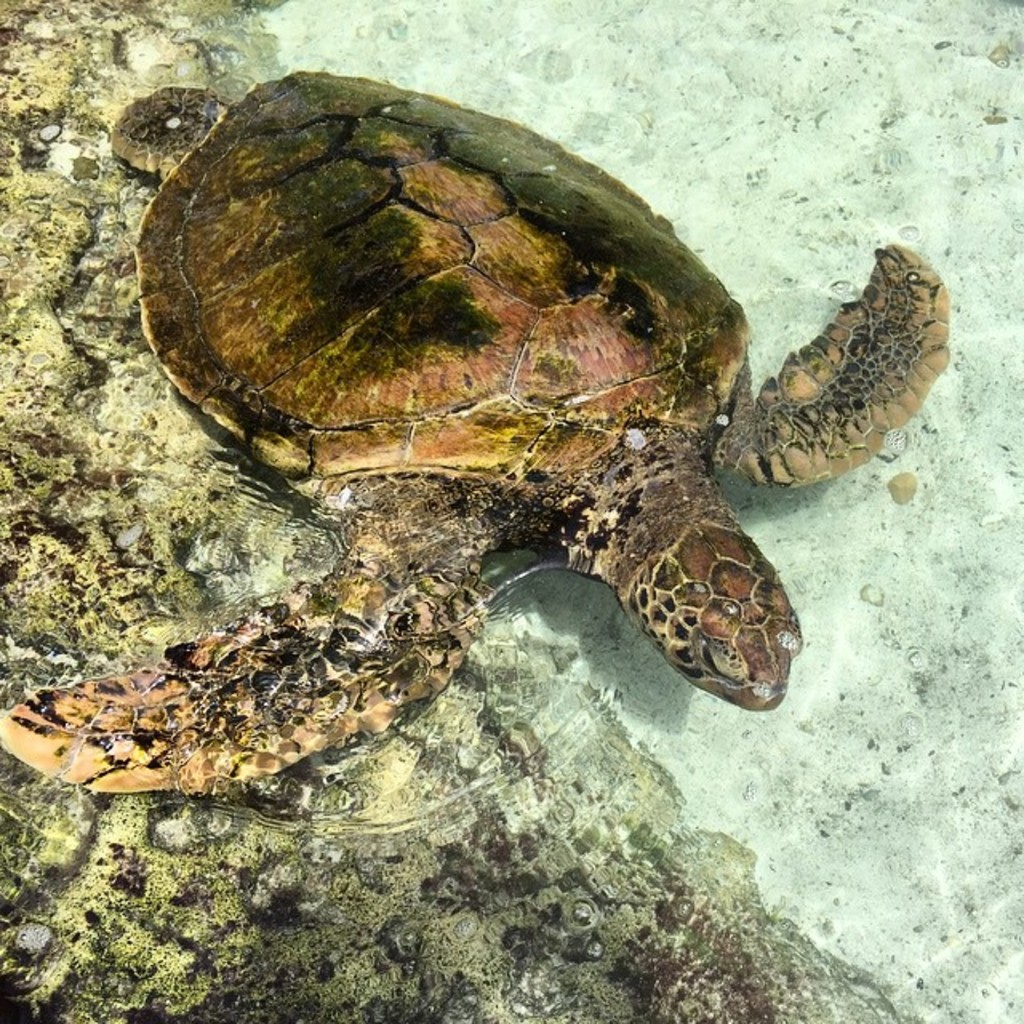Sea turtles: (0, 65, 944, 804)
